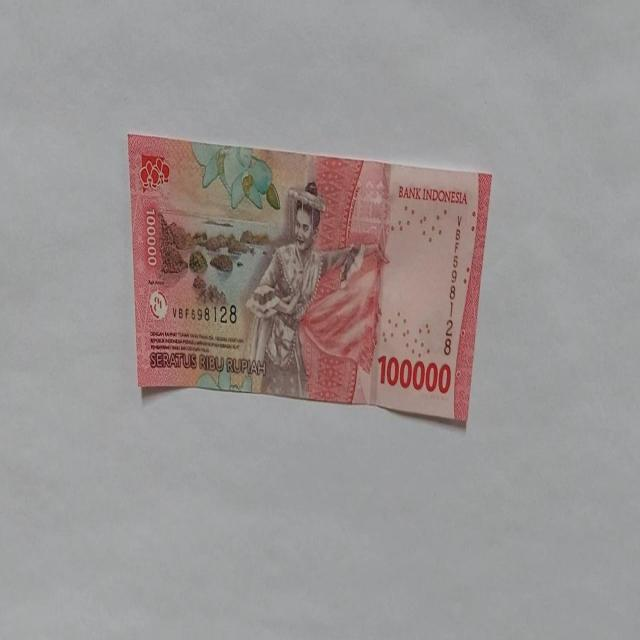Kertas: (127, 130, 493, 428), (376, 352, 452, 395)
